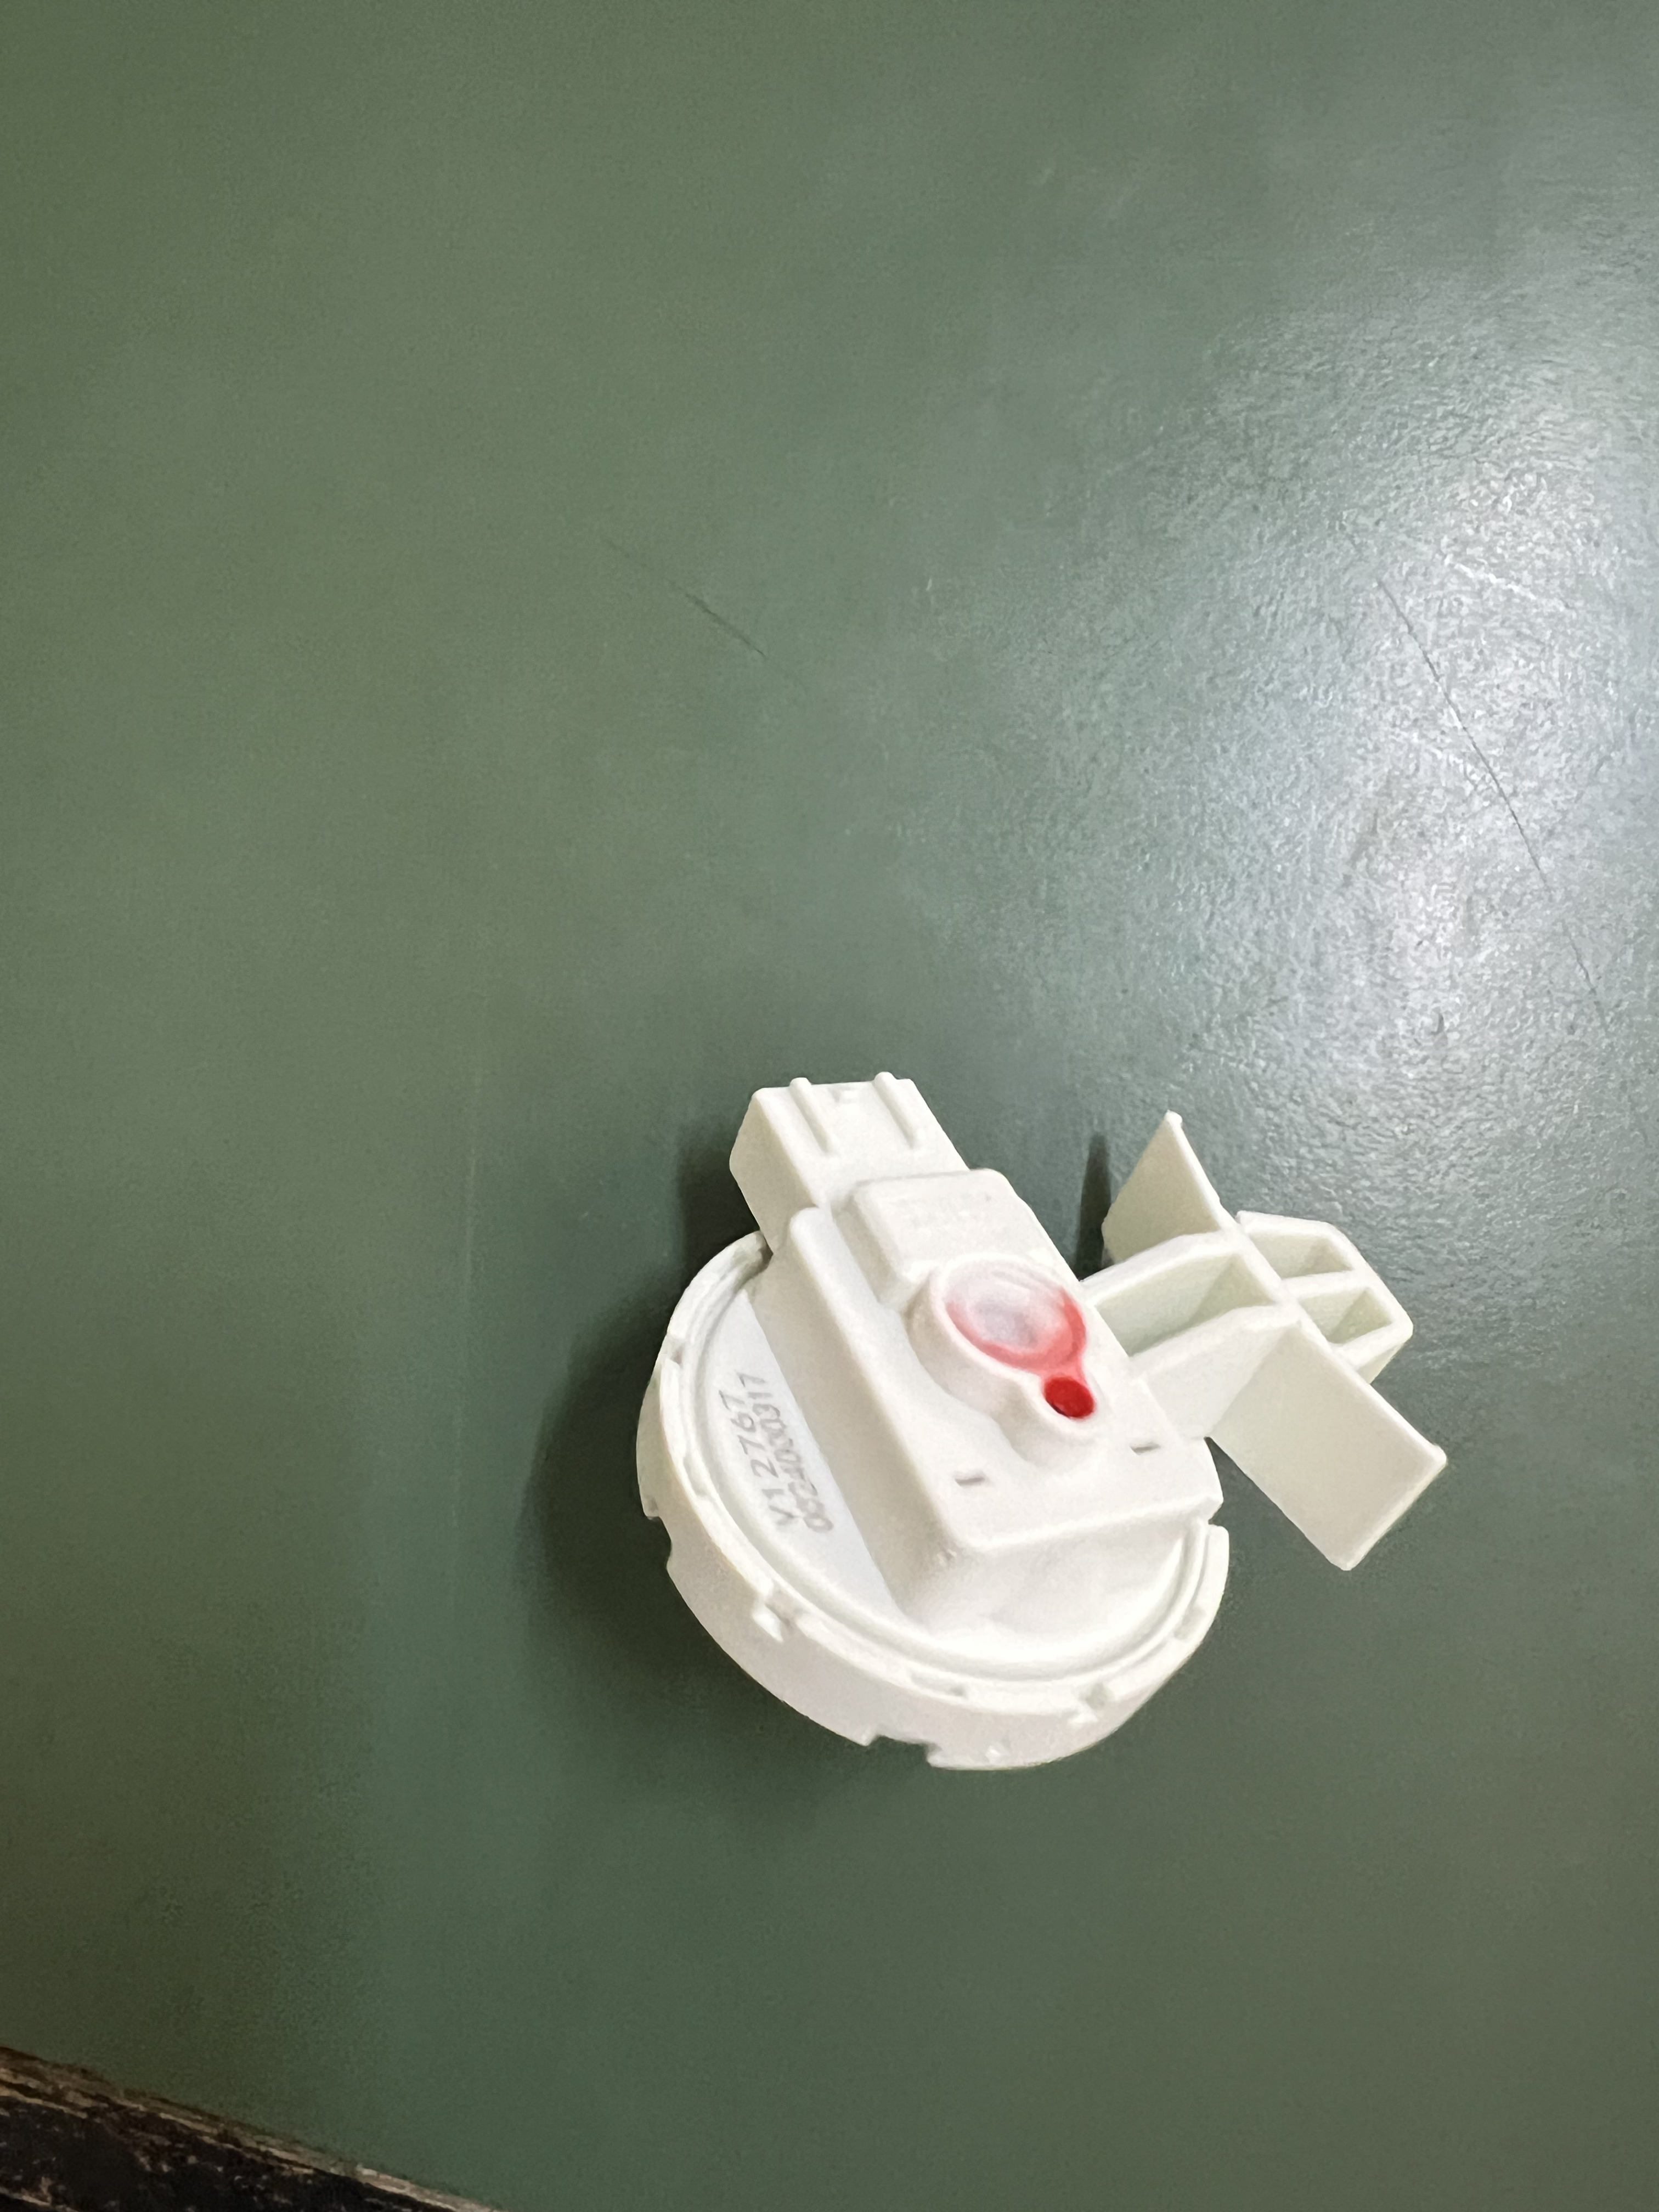pressure_switch_2: (622, 1057, 1455, 1778)
